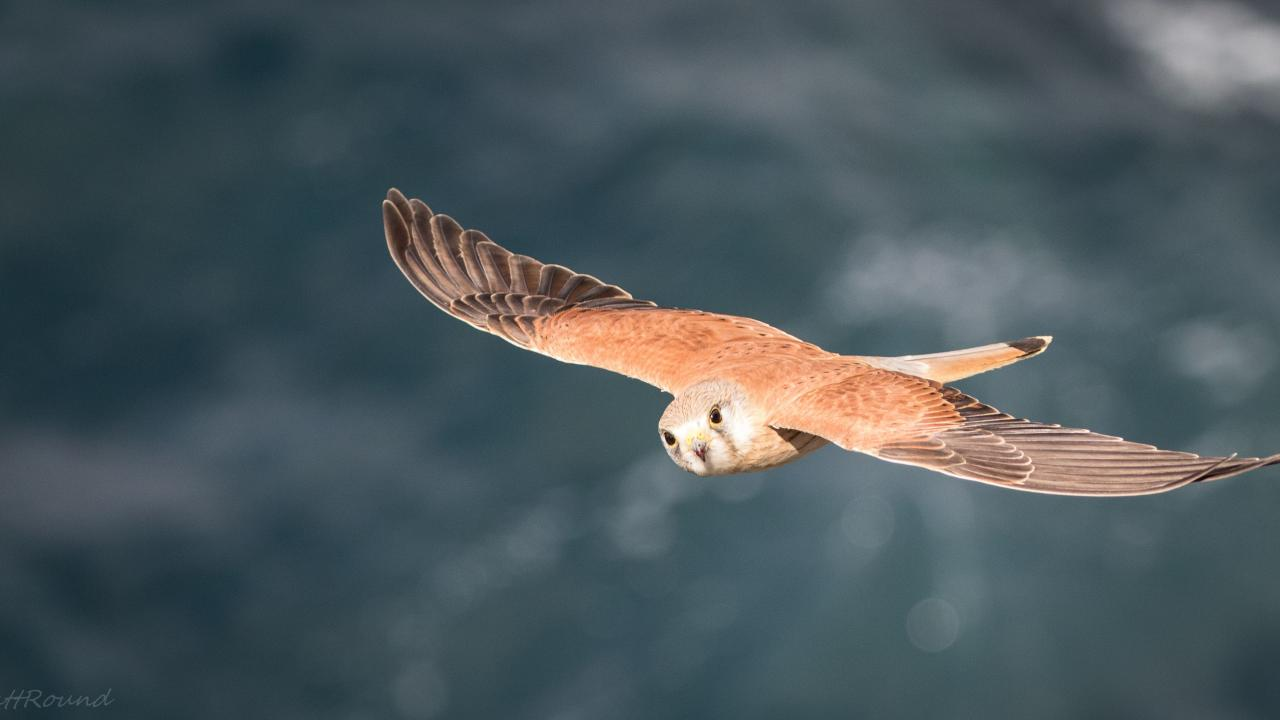Bird: (368, 175, 1280, 529)
